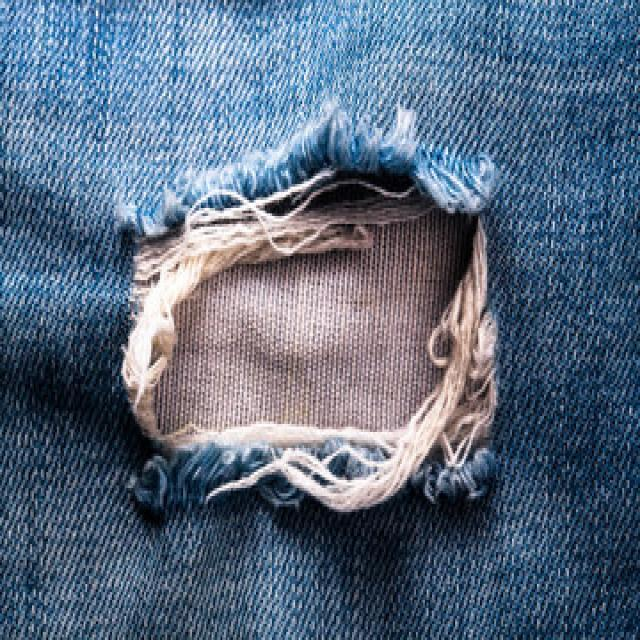Hole: (112, 103, 508, 515)
